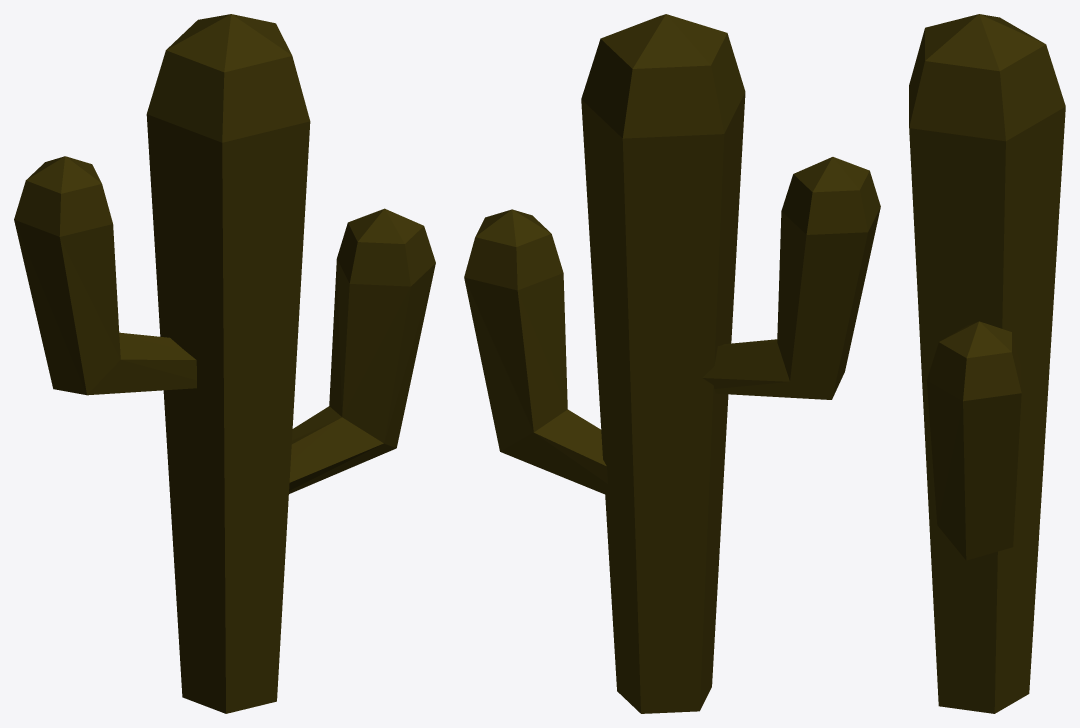
File: Cactus3.fbx.glb
3 views of the same model, side by side, from view 1: azimuth 30°, elevation 25°; view 2: azimuth 150°, elevation 25°; view 3: azimuth 270°, elevation 25° (orthographic).
Visible parts, largest first — view 1: Cactus3; view 2: Cactus3; view 3: Cactus3.
Boxes of the visible parts, left/top/right/bottom form: Cactus3: left=14, top=14, right=435, bottom=713; Cactus3: left=464, top=14, right=880, bottom=713; Cactus3: left=909, top=14, right=1065, bottom=713.
Bounding box in the file's own units: 78.88 × 126 × 26.34.
